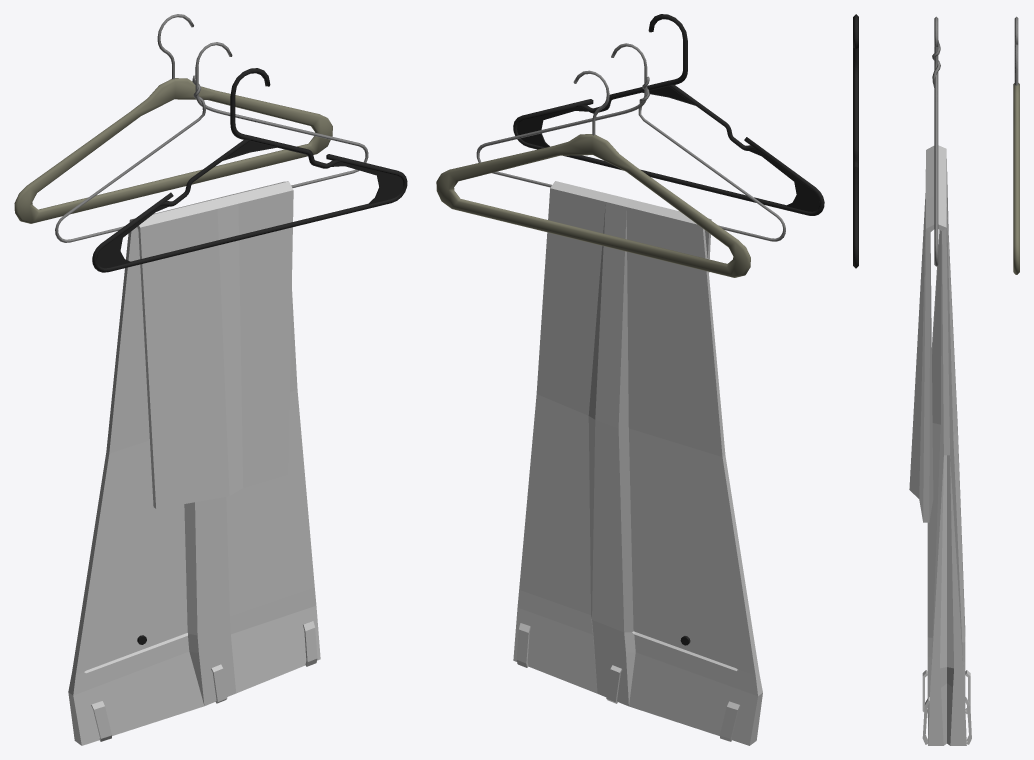
File: pants.gltf
3 renders of one model, left to right at view 1: azimuth 30°, elevation 25°; view 2: azimuth 150°, elevation 25°; view 3: azimuth 270°, elevation 25°, orthographic. The views are drawn at different scales.
Visible parts, largest first — view 1: Object_4, Object_2, Object_5, Object_3; view 2: Object_4, Object_2, Object_5, Object_3; view 3: Object_4, Object_3, Object_5, Object_2.
Boxes of the visible parts, x1,y1,x2,y2 form: Object_4: (68, 181, 320, 745); Object_2: (14, 78, 332, 223); Object_5: (92, 68, 407, 644); Object_3: (55, 14, 368, 242); Object_4: (513, 181, 762, 745); Object_2: (436, 134, 750, 277); Object_5: (513, 14, 824, 645); Object_3: (476, 43, 785, 241); Object_4: (909, 145, 971, 745); Object_3: (932, 16, 1018, 266); Object_5: (853, 14, 858, 268); Object_2: (1013, 83, 1019, 274).
Size of the model in its own units: 4.82 by 9.78 by 2.08.
